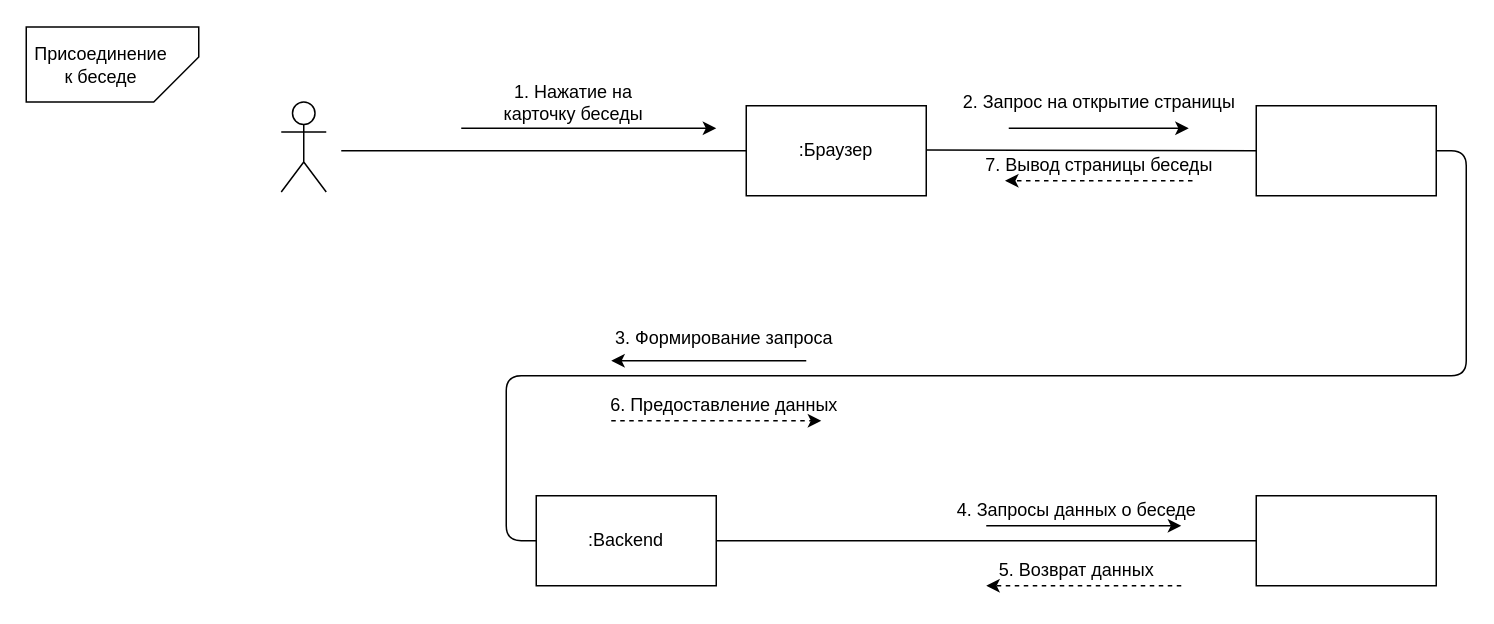
Some shapes in this 1494 by 624 pixel diagram are drawn without their labels. The centre of each missing label's shape, as x and y in pixels:
:Frontend: the point at 1345,150
:База Данных: the point at 1345,540
